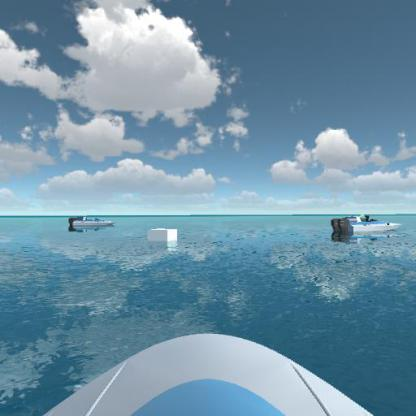usv0: (347, 208, 379, 224)
usv1: (328, 212, 405, 242), (66, 213, 116, 232)
